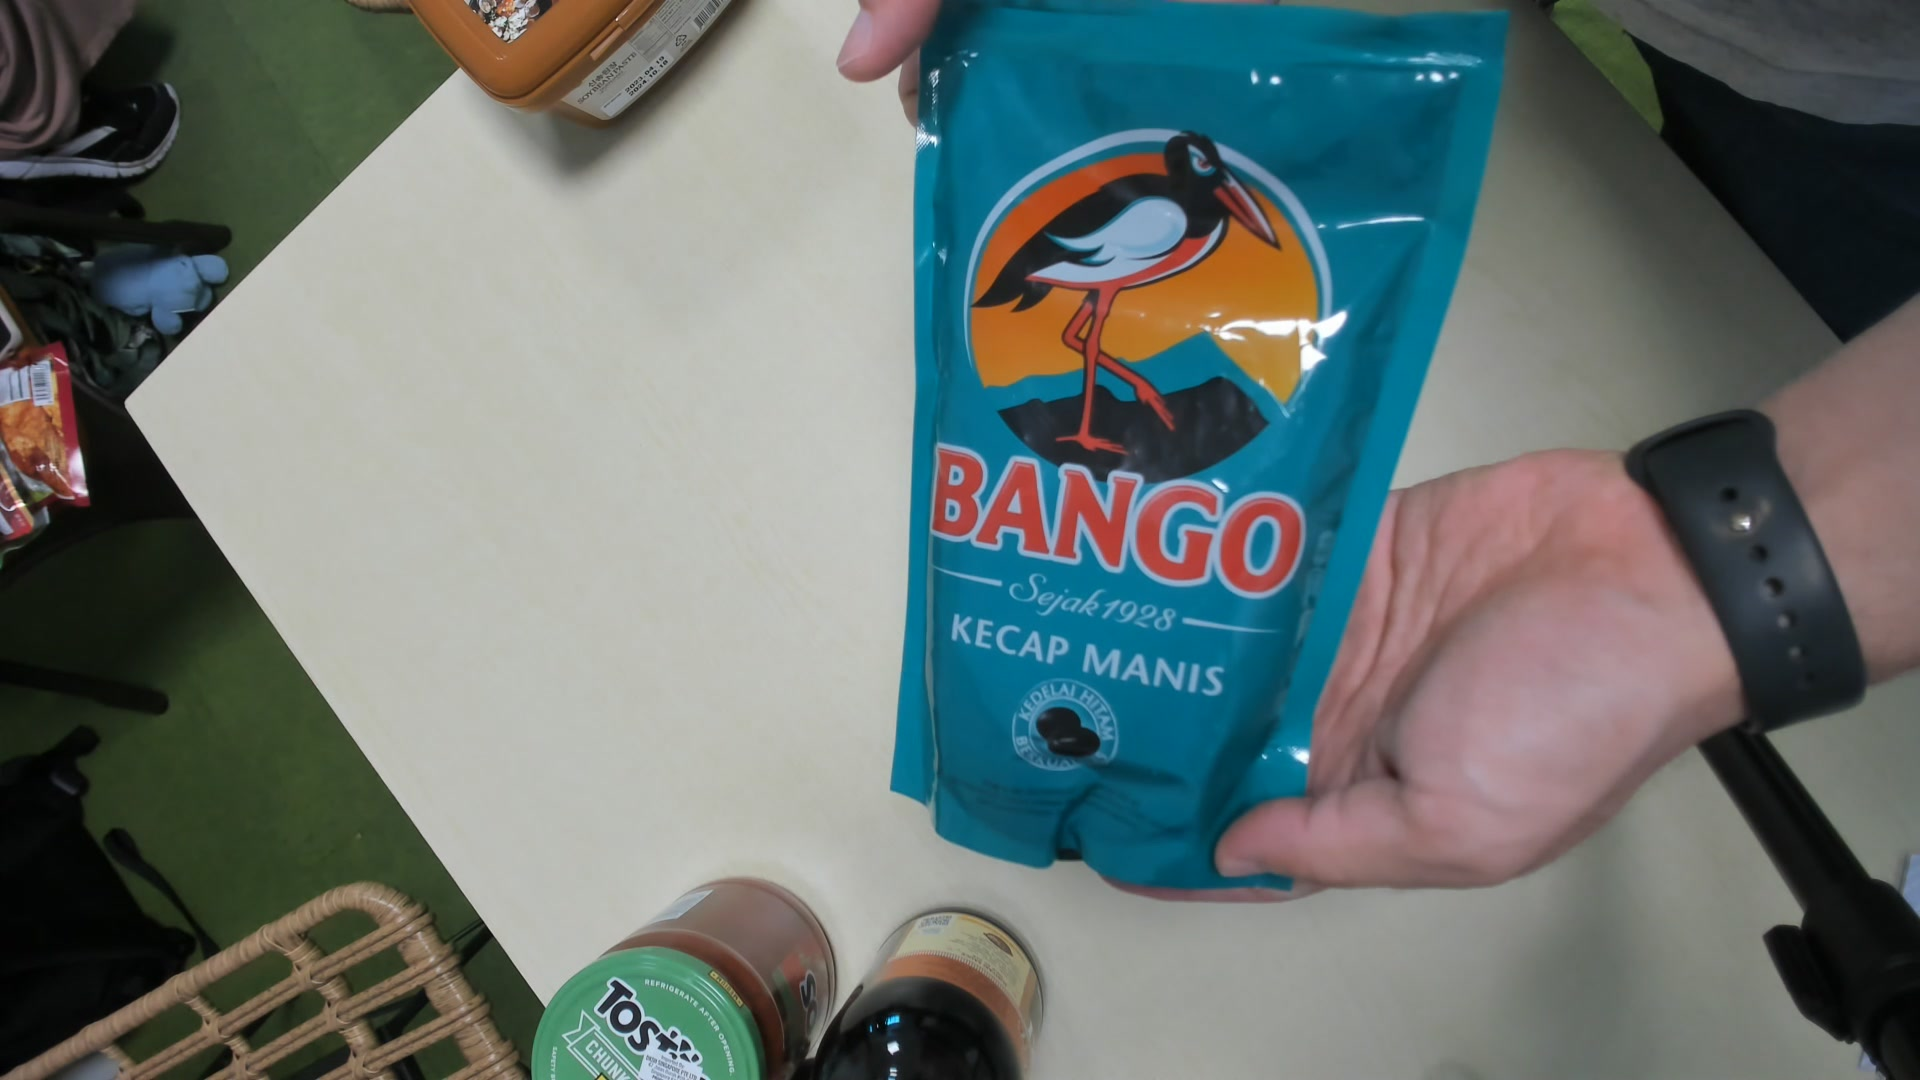OtherSauceDressing_500-599g_NonHalal_NonHealthy: (911, 12, 1462, 877)
